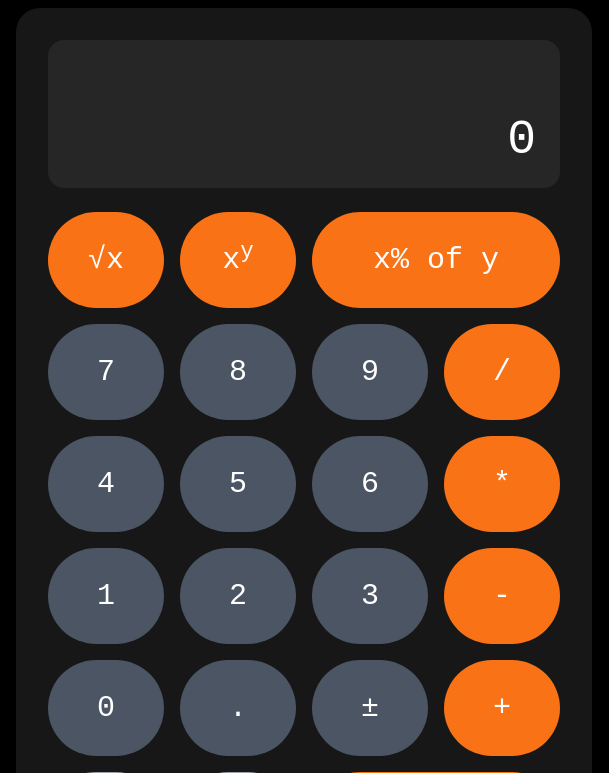
Calculator › displays digits when number buttons are clicked
Click the button "1". click: click(106, 596)
box: top-left (48, 548), bottom-right (164, 644)
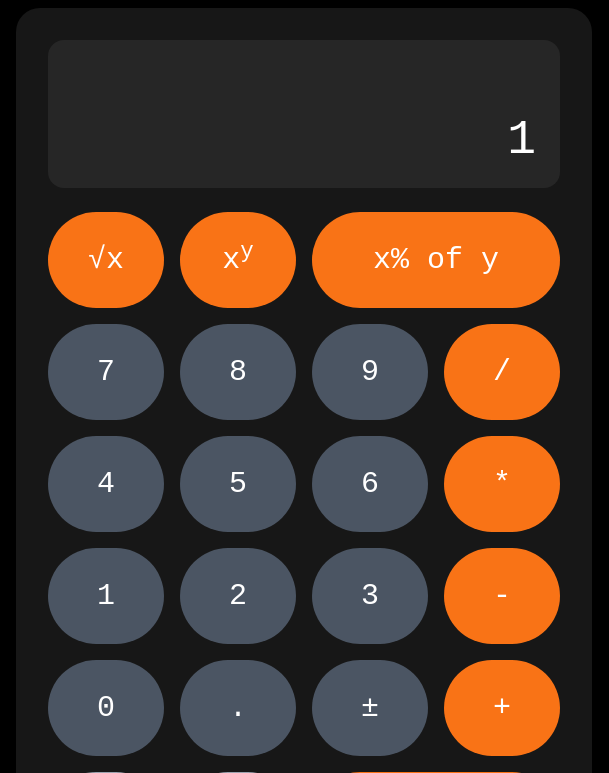
Click the button "2". click: click(238, 596)
box: top-left (180, 548), bottom-right (296, 644)
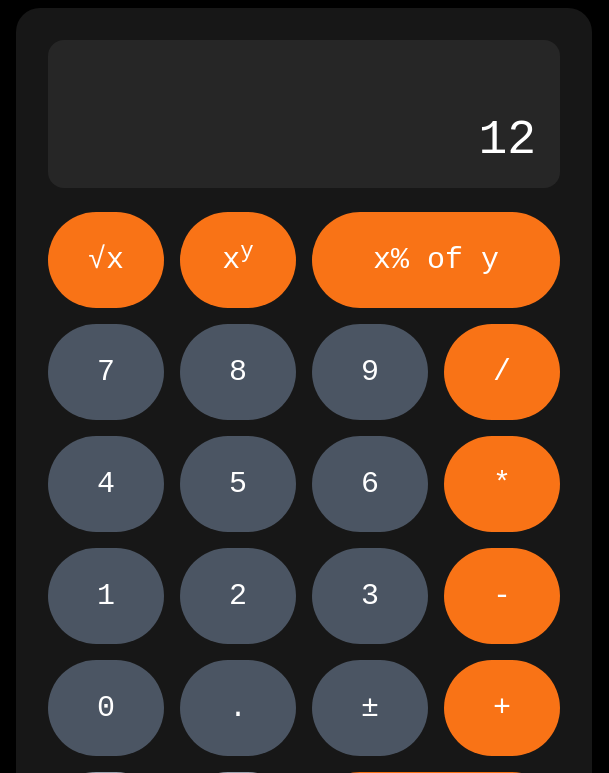
Click the button "3". click: click(370, 596)
box: top-left (312, 548), bottom-right (428, 644)
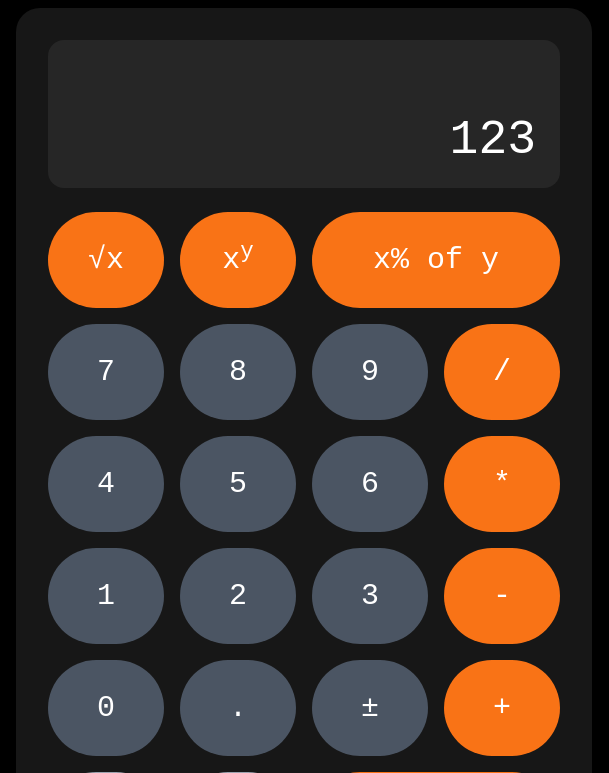
Expected: the text with test id "display" reads "123", top-left (450, 113), bottom-right (536, 167)
